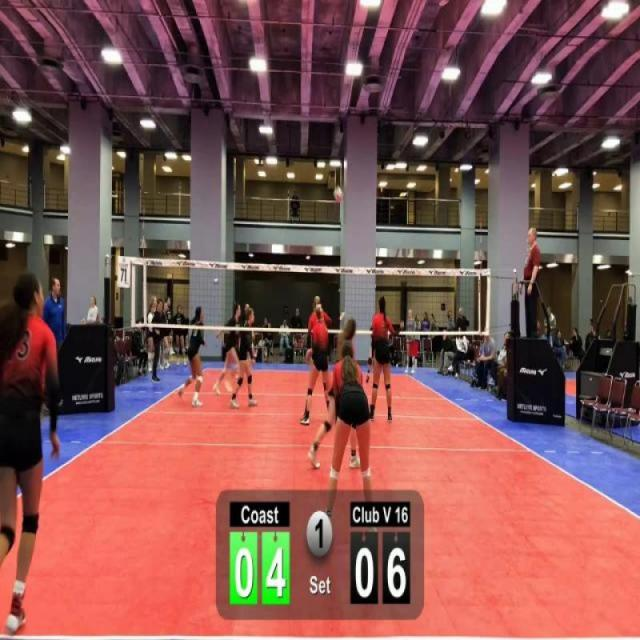volleyball: (332, 180, 345, 208)
